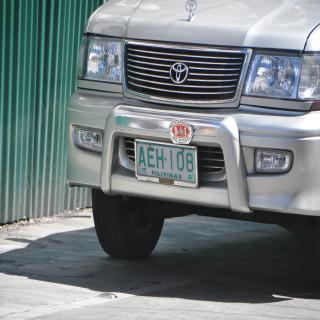license: (136, 140, 199, 188)
